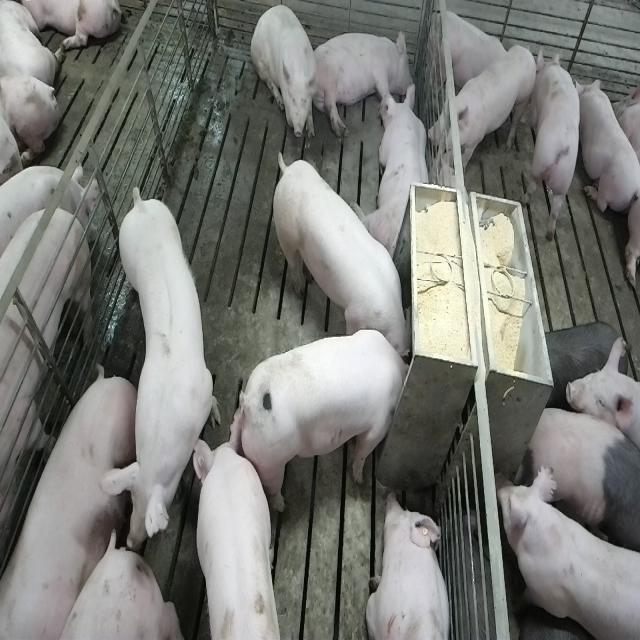Feeding: (239, 328, 420, 512), (268, 144, 410, 358)
Lateral_lying: (310, 28, 415, 139)
Sitting: (251, 4, 320, 145)
Standing: (0, 200, 94, 640), (110, 188, 219, 553), (493, 457, 638, 638), (526, 396, 638, 568), (195, 439, 287, 640), (430, 44, 538, 175), (0, 158, 99, 261)
Sternal_lying: (359, 82, 433, 264), (366, 489, 453, 640), (528, 48, 585, 240), (577, 70, 640, 220), (428, 5, 512, 96)
